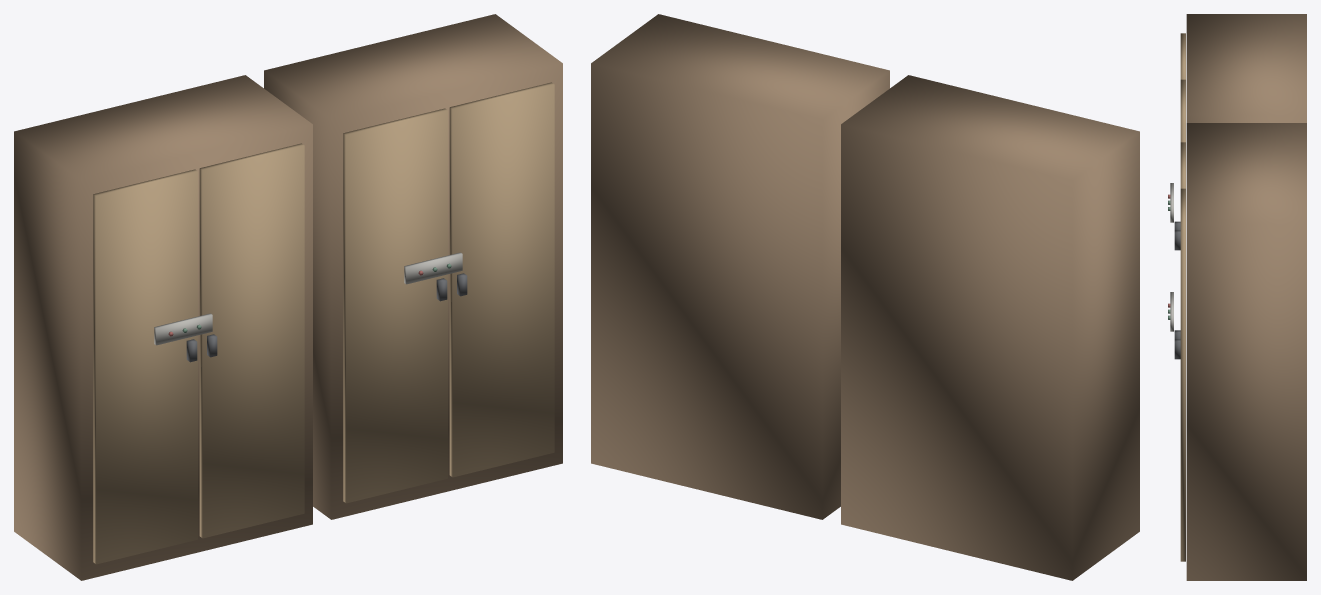
File: wardrobe__cluster.glb
3 views of the same model, side by side, from view 1: azimuth 30°, elevation 25°; view 2: azimuth 150°, elevation 25°; view 3: azimuth 270°, elevation 25° (orthographic). The views are drawn at different scales.
Parts seen in each view (by area): view 1: world; view 2: world; view 3: world.
Boxes of the visible parts, x1,y1,x2,y2 form: world: [14, 14, 562, 580]; world: [591, 14, 1139, 580]; world: [1168, 14, 1306, 580].
Bounding box in the file's own units: 2.39 × 1.9 × 0.6685.
